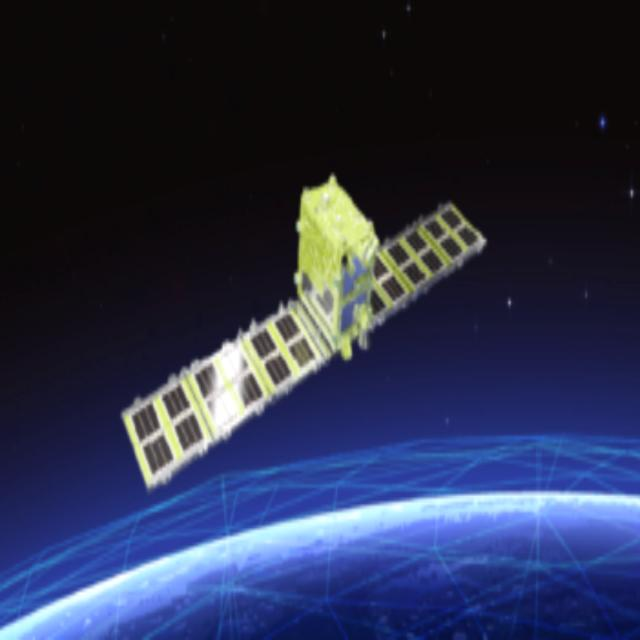medium_debris: (113, 152, 489, 500)
